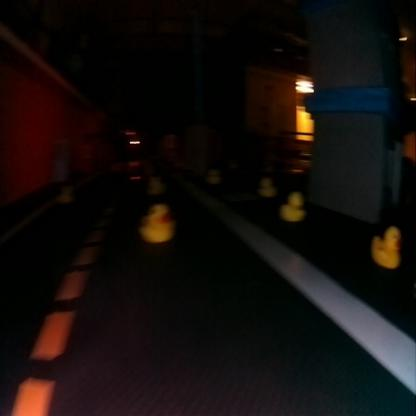Duckie: (138, 204, 174, 244), (372, 228, 398, 266), (280, 191, 302, 220), (257, 178, 278, 198), (147, 177, 164, 196), (56, 184, 72, 202), (206, 166, 218, 182)
